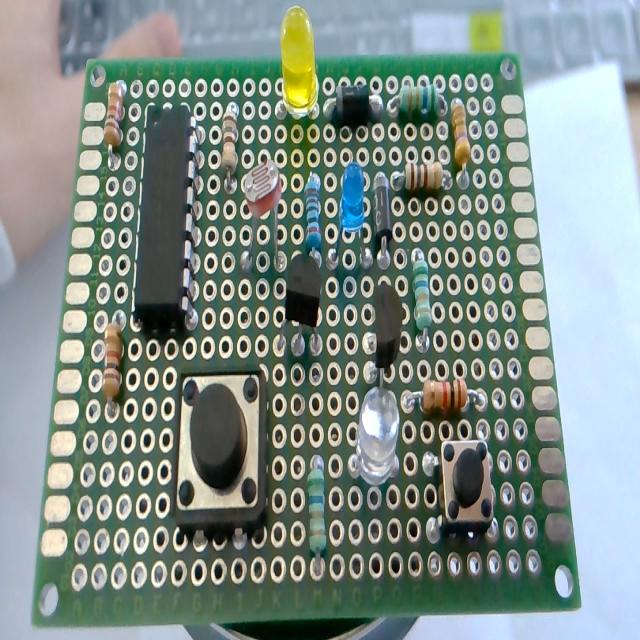IC: (135, 104, 194, 334)
cds: (242, 156, 286, 274)
diode: (325, 88, 384, 126), (373, 170, 393, 262)
led: (352, 384, 400, 487), (278, 5, 320, 118), (326, 160, 365, 274)
resistor: (410, 248, 434, 353), (404, 382, 482, 414), (308, 459, 328, 574), (393, 163, 451, 196), (104, 80, 125, 170), (395, 80, 443, 118), (451, 99, 471, 190), (102, 321, 123, 407), (221, 104, 239, 188), (305, 174, 322, 258)
switch: (172, 368, 269, 532), (419, 429, 496, 537)
transistor: (280, 254, 322, 360), (371, 281, 402, 397)
